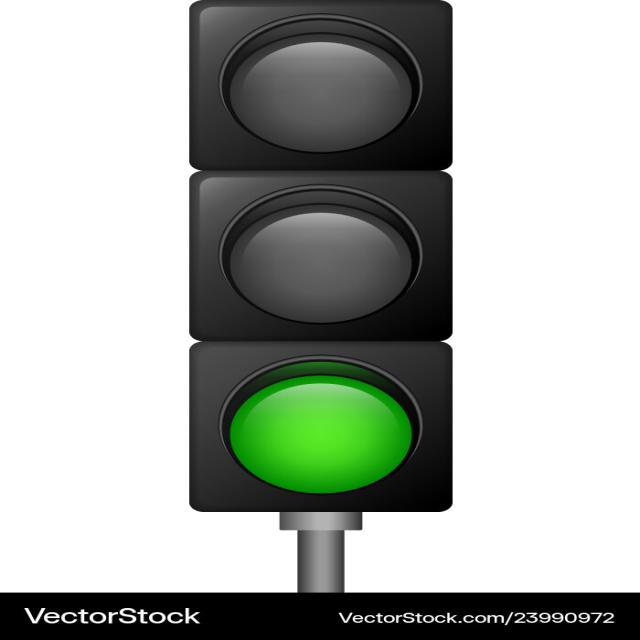green: (165, 340, 448, 520)
